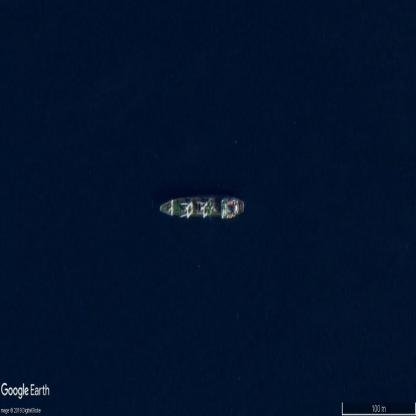ship: (161, 193, 245, 223)
